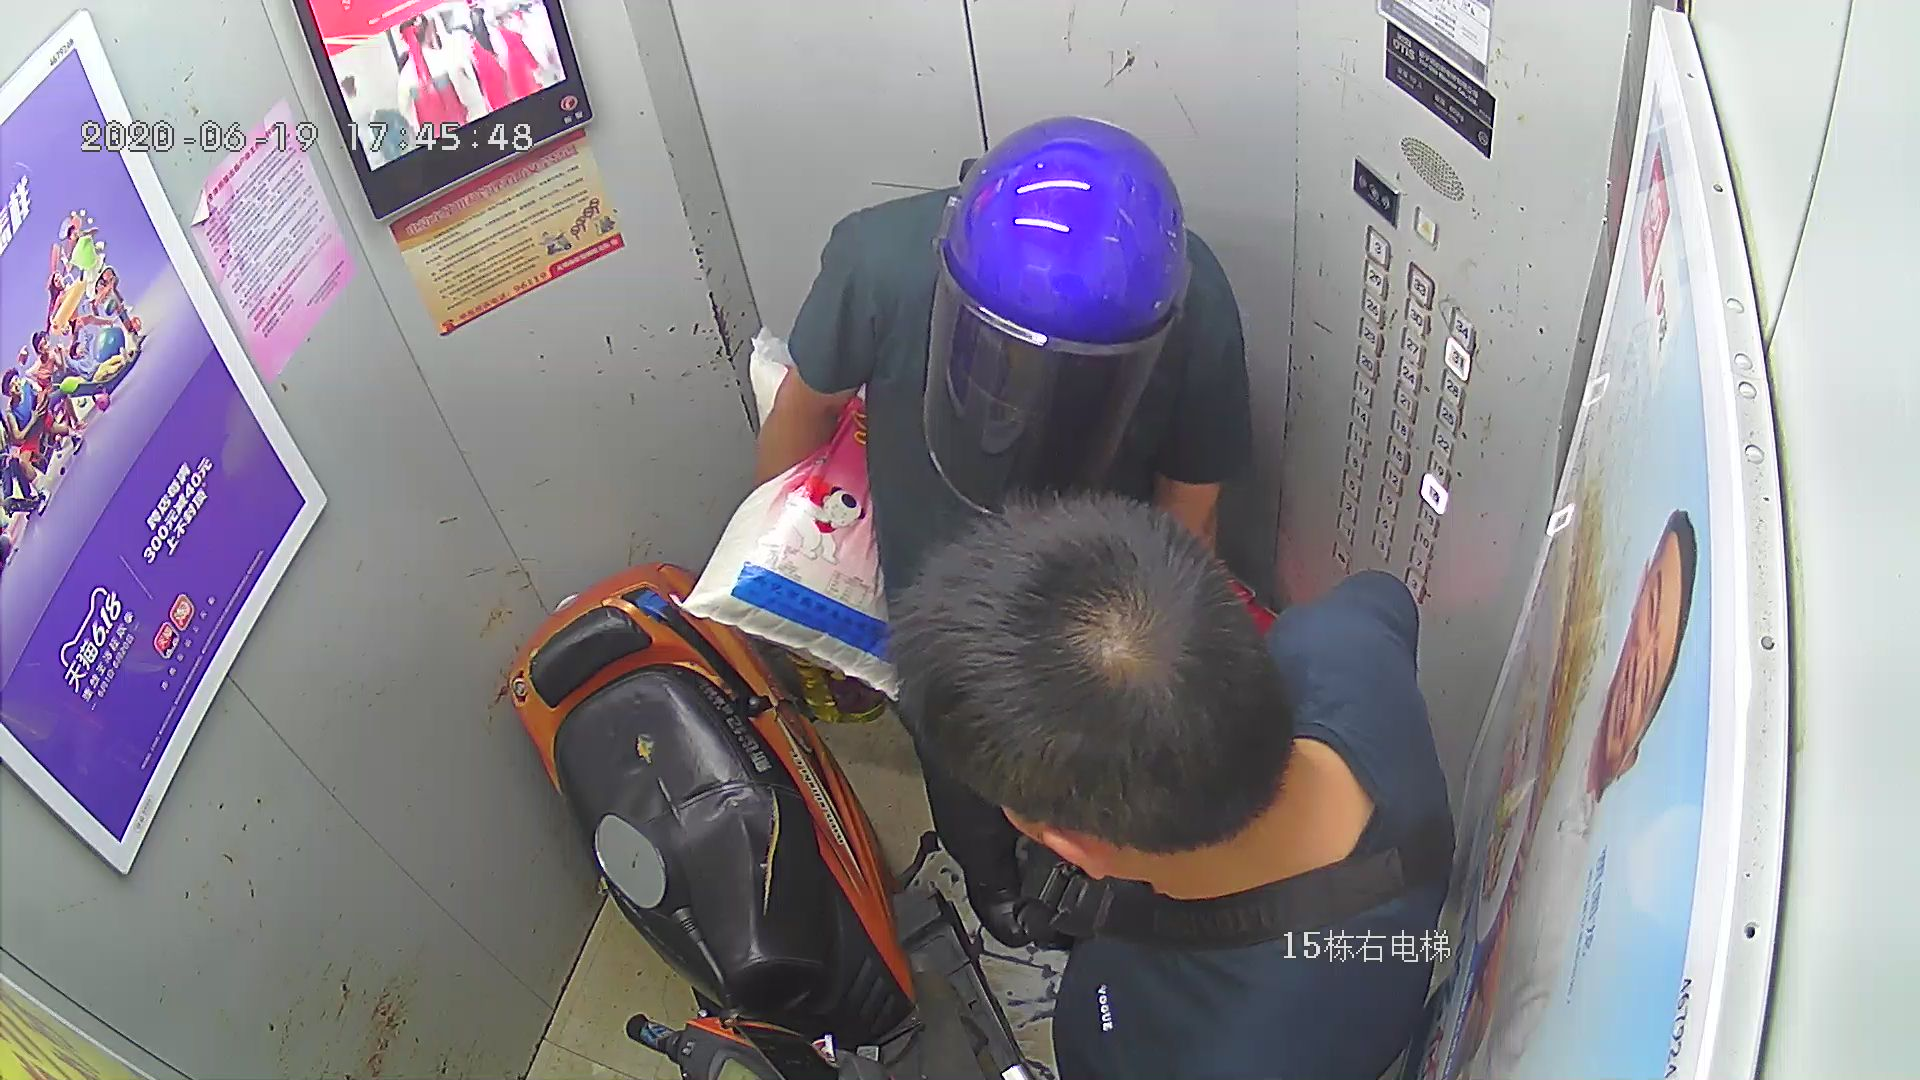Electric-bicycle: (510, 562, 1036, 1075)
